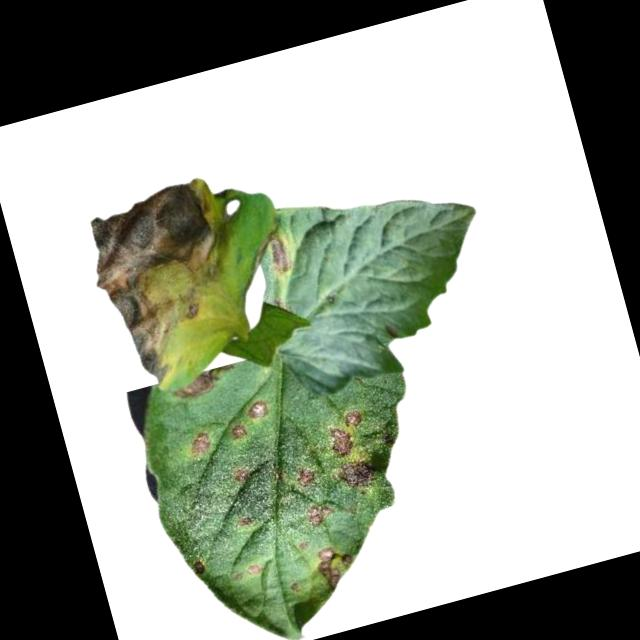Early_blight: (77, 171, 269, 393), (167, 365, 240, 408), (312, 539, 364, 597), (333, 457, 380, 492), (265, 233, 296, 283), (302, 498, 337, 531), (326, 423, 356, 461), (245, 397, 273, 425), (187, 431, 214, 460), (294, 464, 319, 488), (232, 466, 255, 486), (345, 409, 365, 428), (246, 561, 265, 580), (231, 424, 249, 442), (235, 515, 252, 531)
